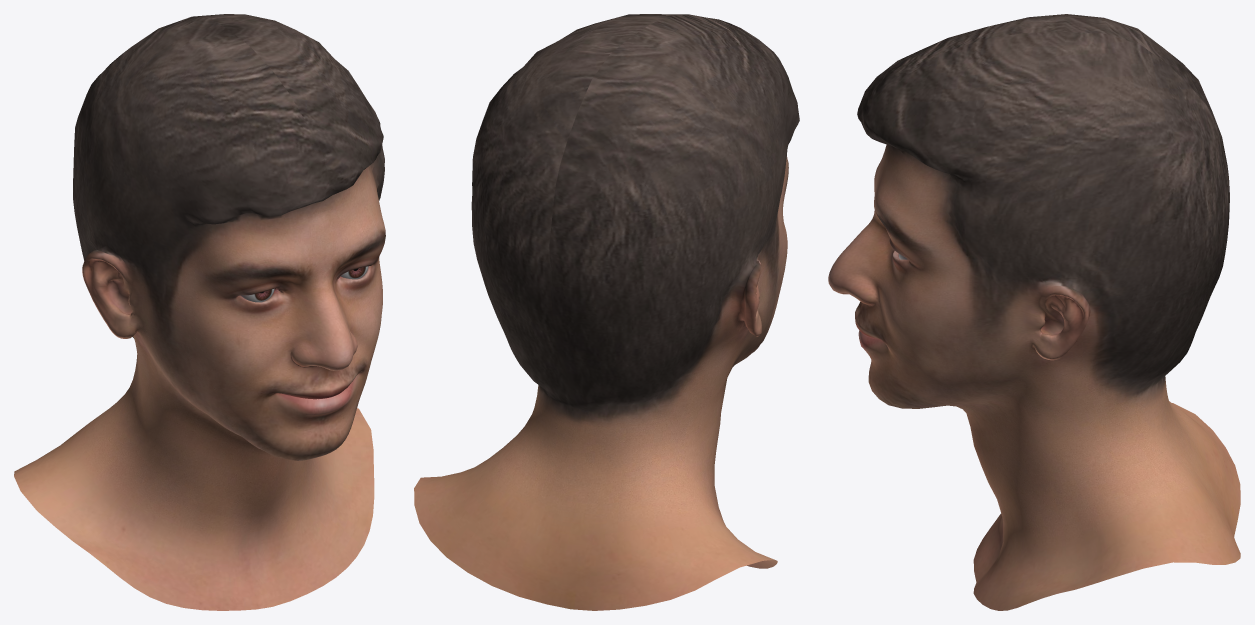
File: chu-mb.glb
3 views of the same model, side by side, from view 1: azimuth 30°, elevation 25°; view 2: azimuth 150°, elevation 25°; view 3: azimuth 270°, elevation 25° (orthographic).
Visible parts, largest first — view 1: mb-head; view 2: mb-head; view 3: mb-head.
Part boxes in pixels (x1=…): mb-head: x1=14, y1=14, x2=385, y2=610; mb-head: x1=414, y1=14, x2=799, y2=610; mb-head: x1=828, y1=14, x2=1240, y2=610.
Bounding box in the file's own units: 0.2335 × 0.3587 × 0.2433.
3 materials, 3 textured.
